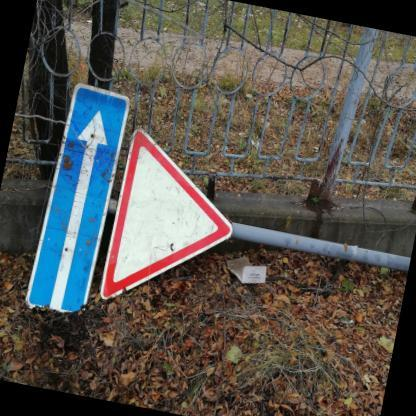obstructed_road_sign: (27, 85, 128, 312), (101, 130, 232, 299)
